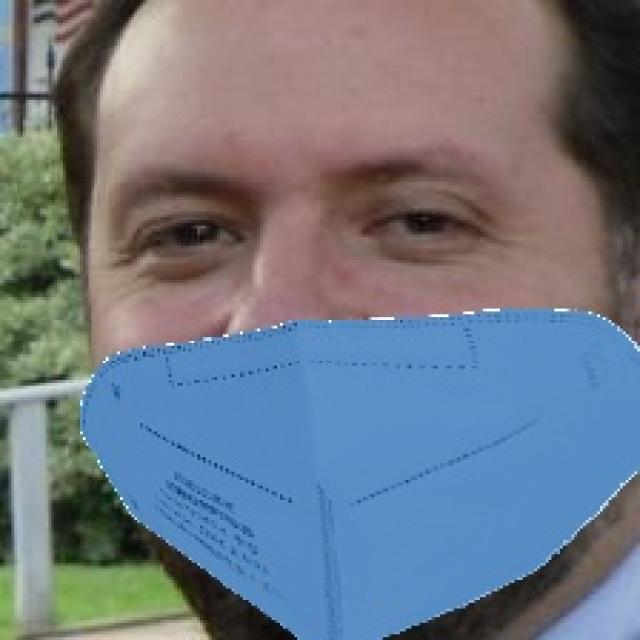mask: (70, 297, 640, 640)
